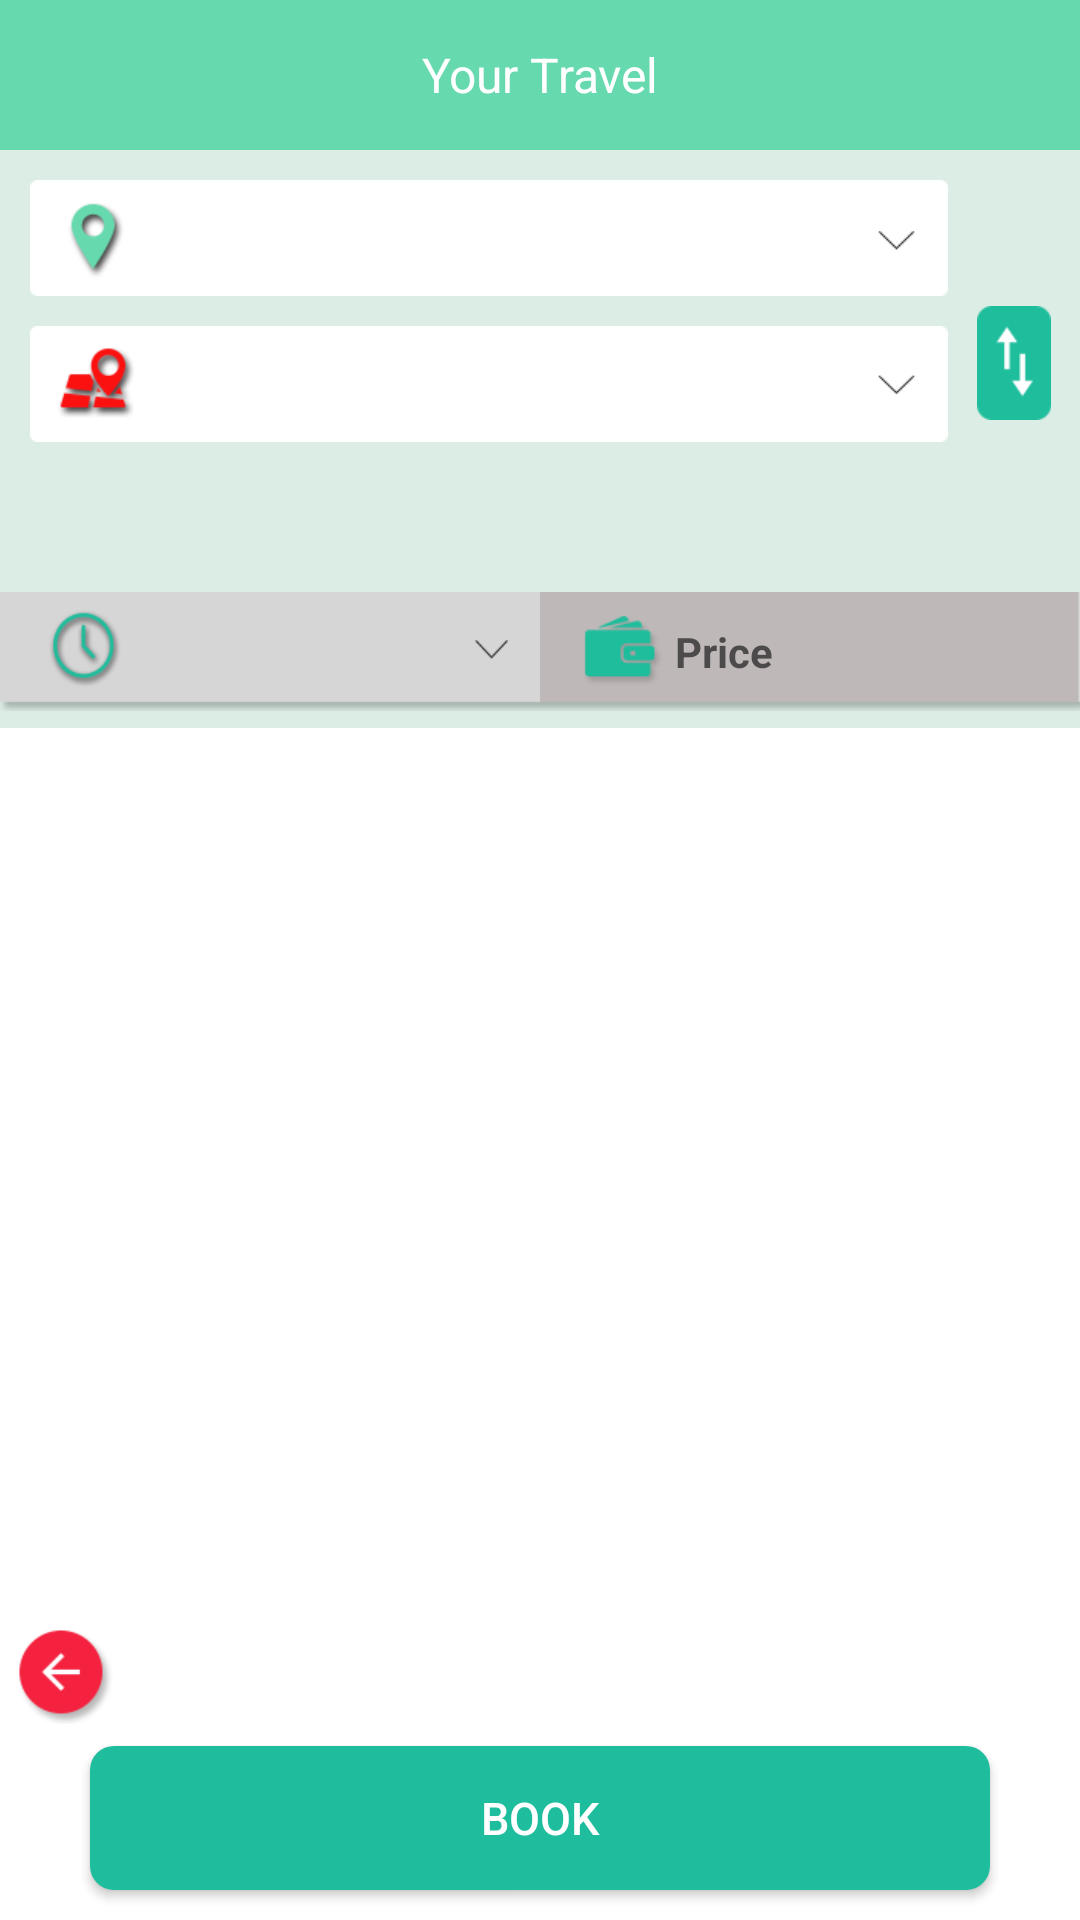

Where to tap for icons on this 1080x1920 app screen, as (x=x, y=y):
floating back: (x=63, y=1675)
swap: (x=1014, y=363)
